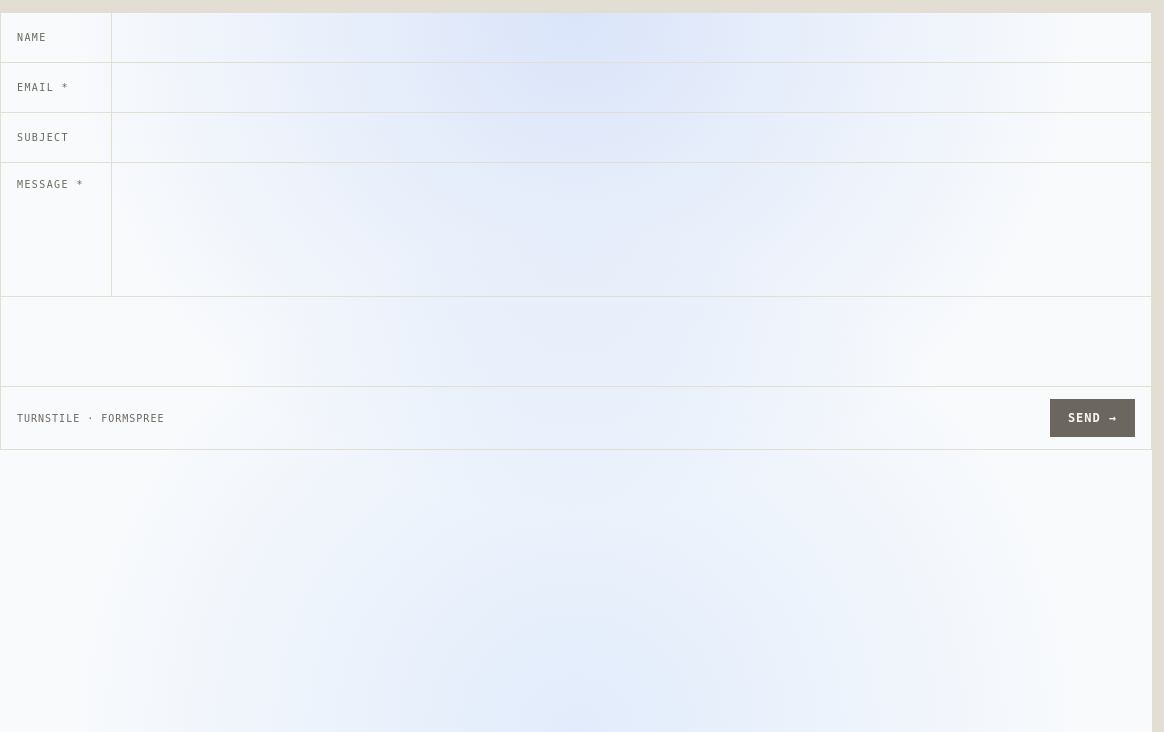
V3ContactForm submission › flags a missing email and message without sending
Focus the field labelled "NAME" at {"x": 631, "y": 38}, box [111,13,1151,62]
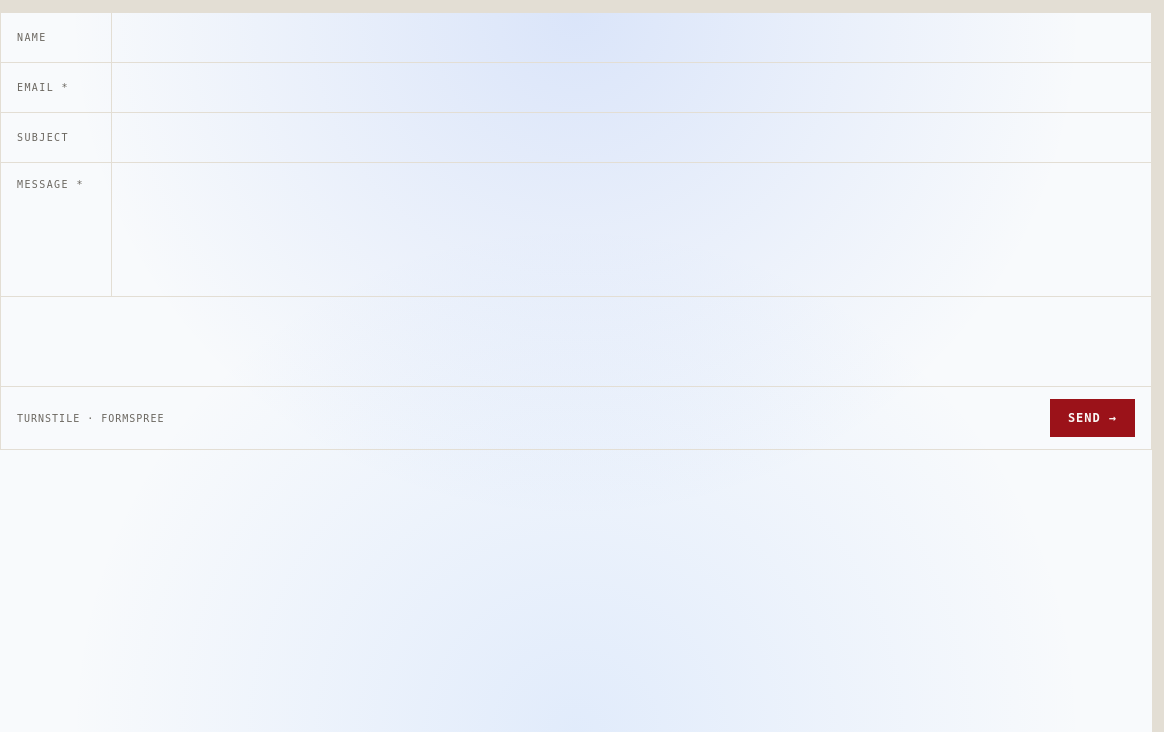
Submit the form from the button "SEND →", box [1050,399,1135,437]
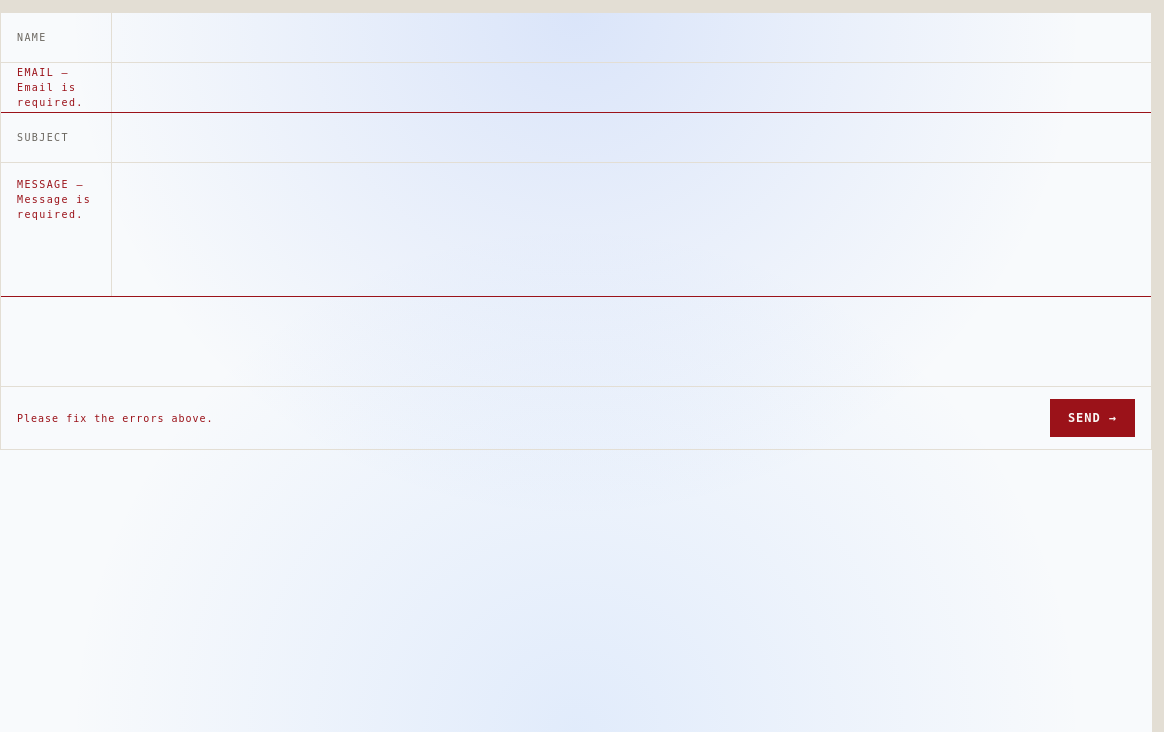
expect the text "EMAIL — Email is required." is shown: met, box [17,67,84,108]
expect the message reads "Please fix the errors above.": met, box [17,412,214,424]
